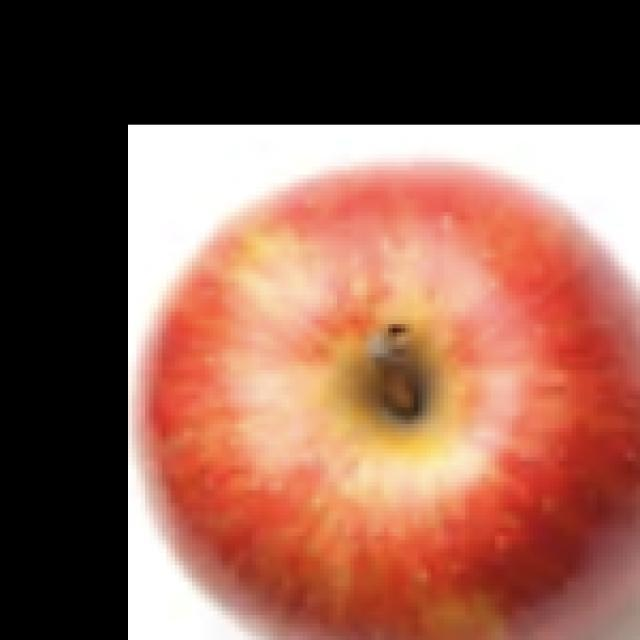Fresh Apple: (138, 154, 640, 640)
